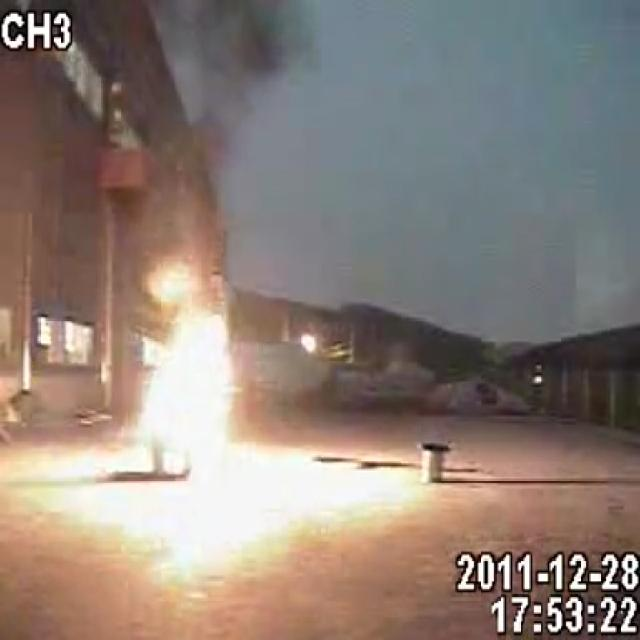Fire: (145, 272, 231, 450)
